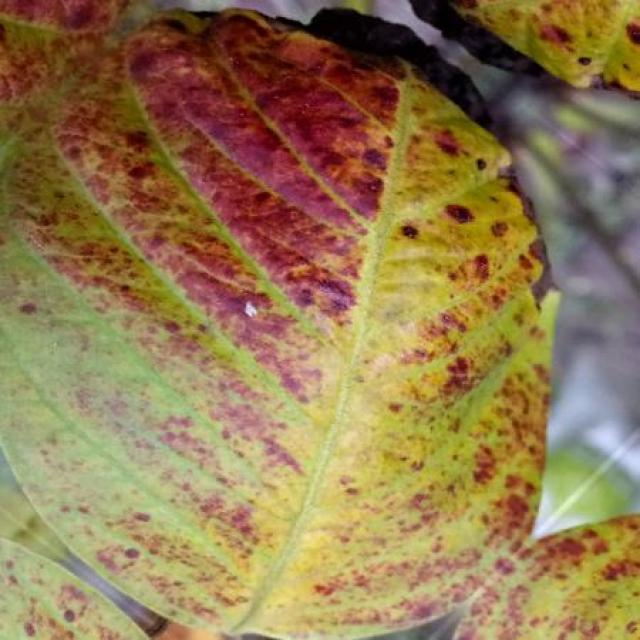Red Rust: (0, 0, 640, 640)
